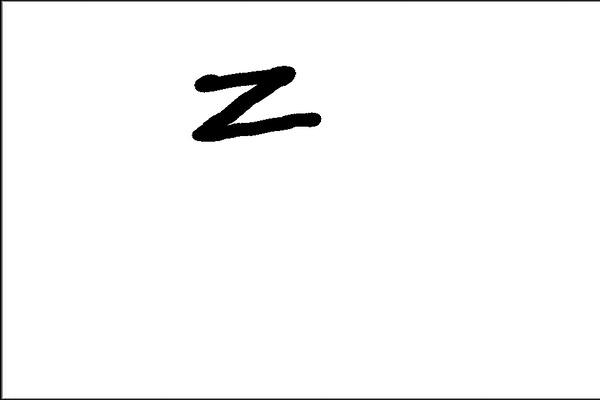Z: (183, 54, 328, 148)
